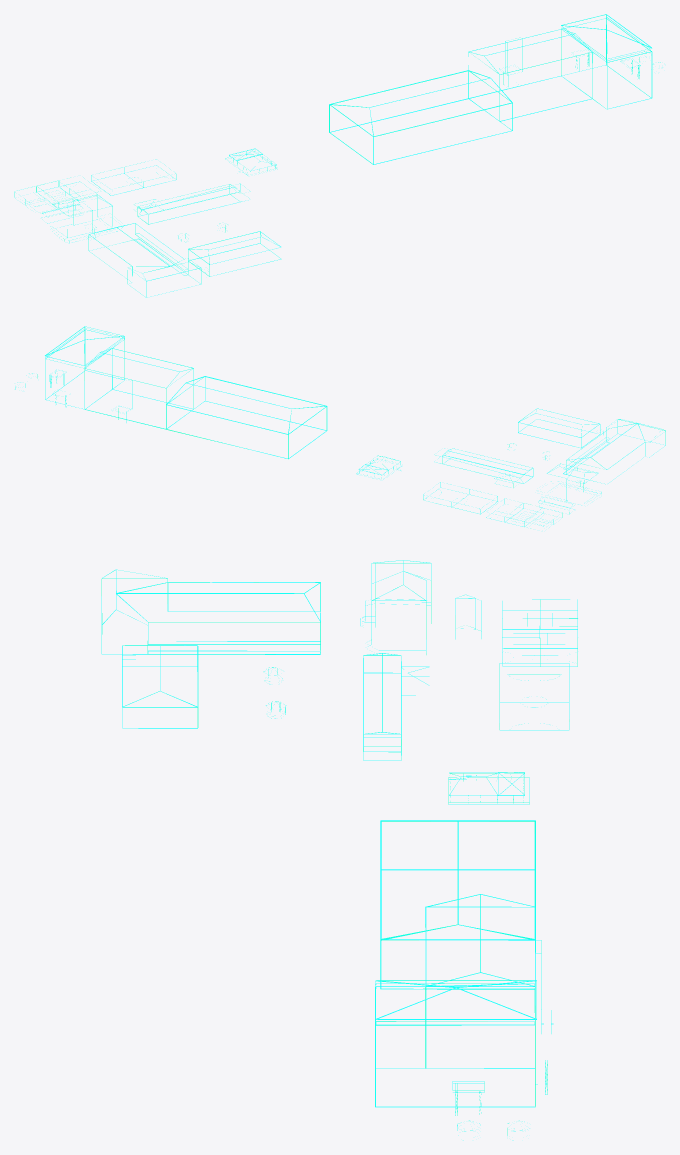
The picture shows the model from 3 angles, top to bottom: view 1: azimuth 30°, elevation 25°; view 2: azimuth 150°, elevation 25°; view 3: azimuth 270°, elevation 25°; orthographic projection. The views are drawn at different scales.
Visible parts, largest first — view 1: SketchUp.025; view 2: SketchUp.025; view 3: SketchUp.025.
Boxes of the visible parts, left/top/right/bottom form: SketchUp.025: left=14, top=14, right=662, bottom=297; SketchUp.025: left=15, top=326, right=665, bottom=528; SketchUp.025: left=101, top=560, right=577, bottom=1140.
Bounding box in the file's own units: 50.24 × 4.43 × 18.85.
